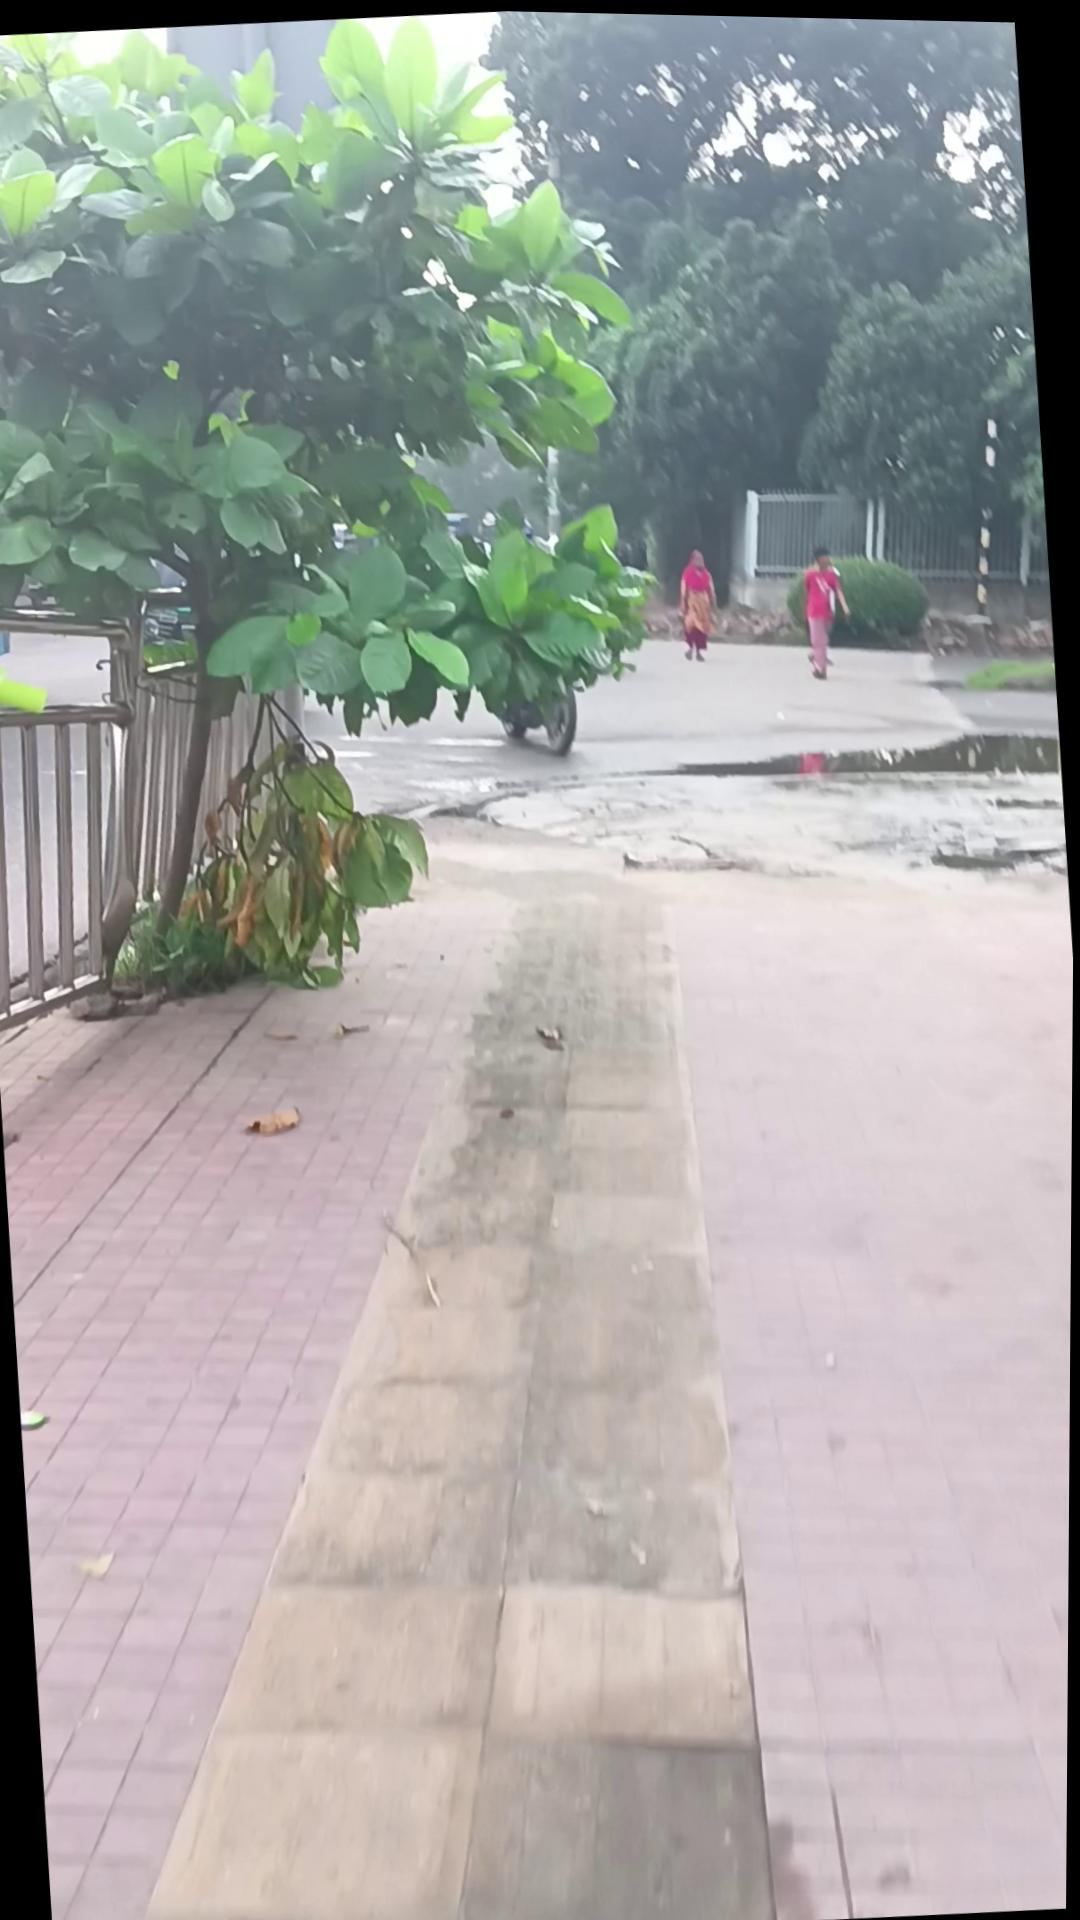Muddy road: (796, 541, 856, 676), (674, 543, 720, 658)
Potted-plant: (0, 793, 1076, 1920)
Railroad-crossing: (649, 700, 1069, 889)
